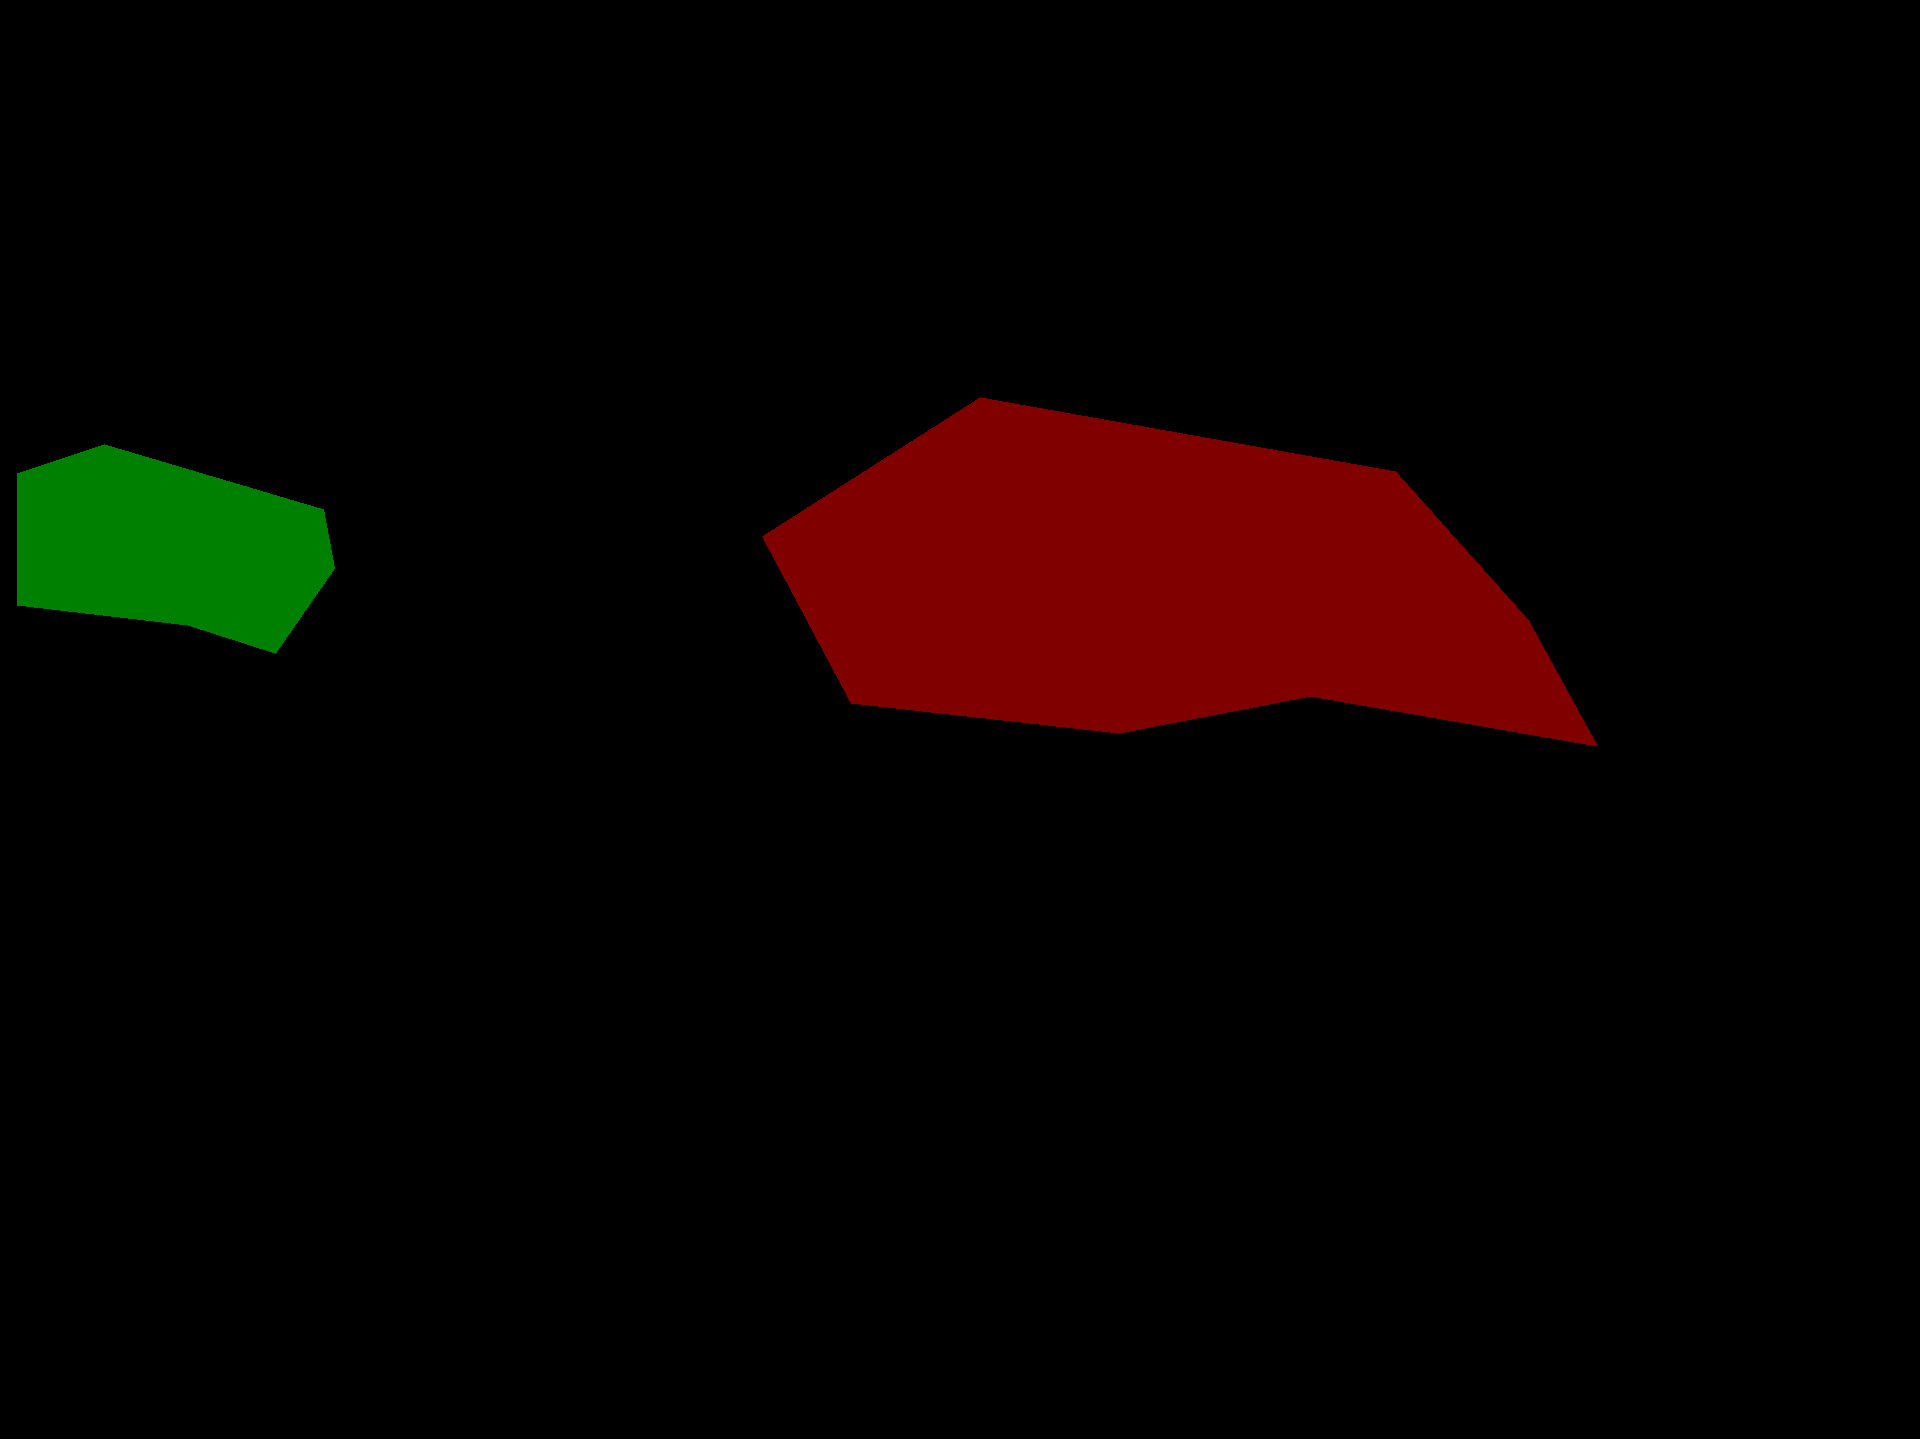fire: (762, 398, 1596, 747), (17, 444, 334, 653)
